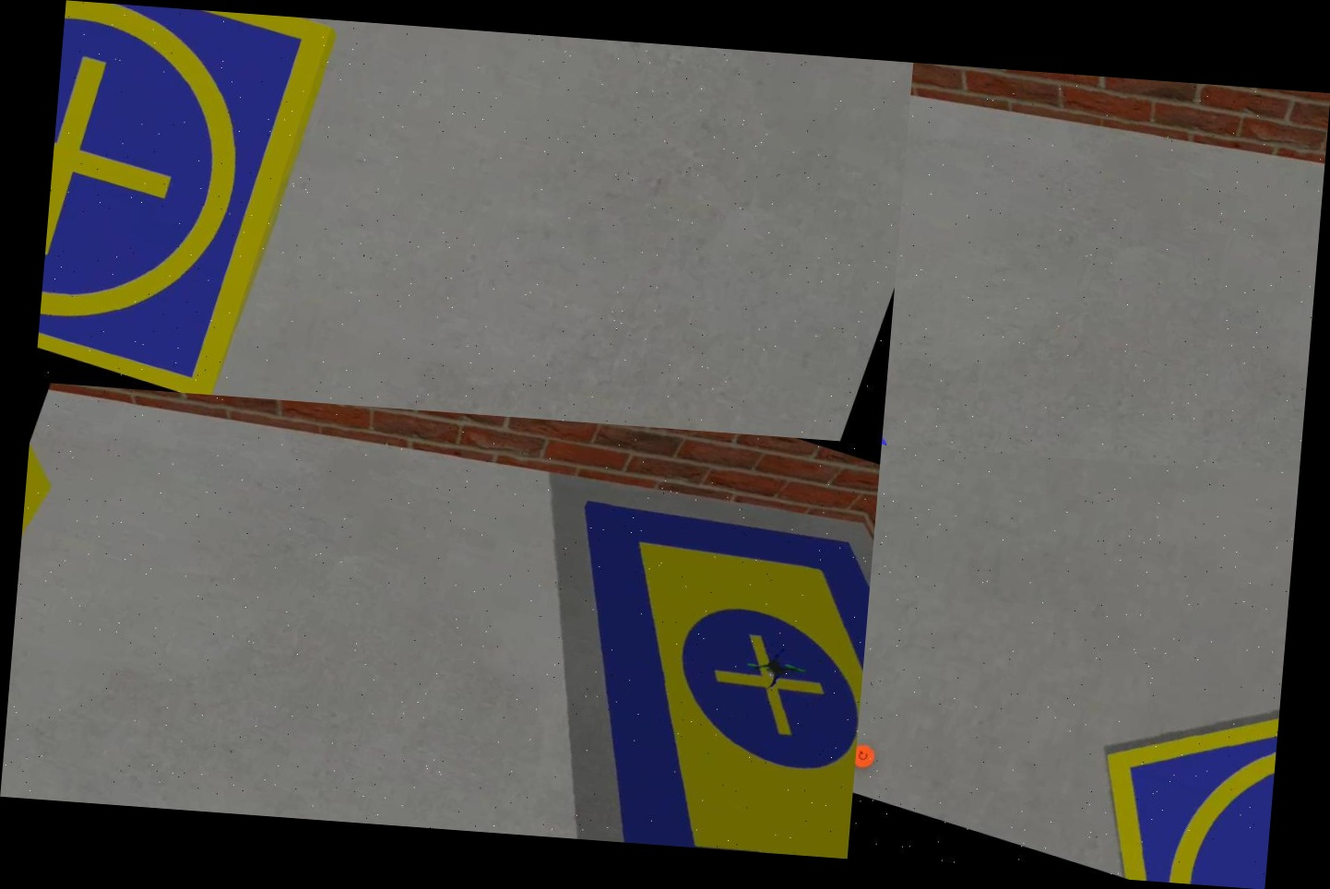large_base: (457, 454, 878, 858)
small_base: (34, 0, 340, 402), (1066, 580, 1288, 889)
